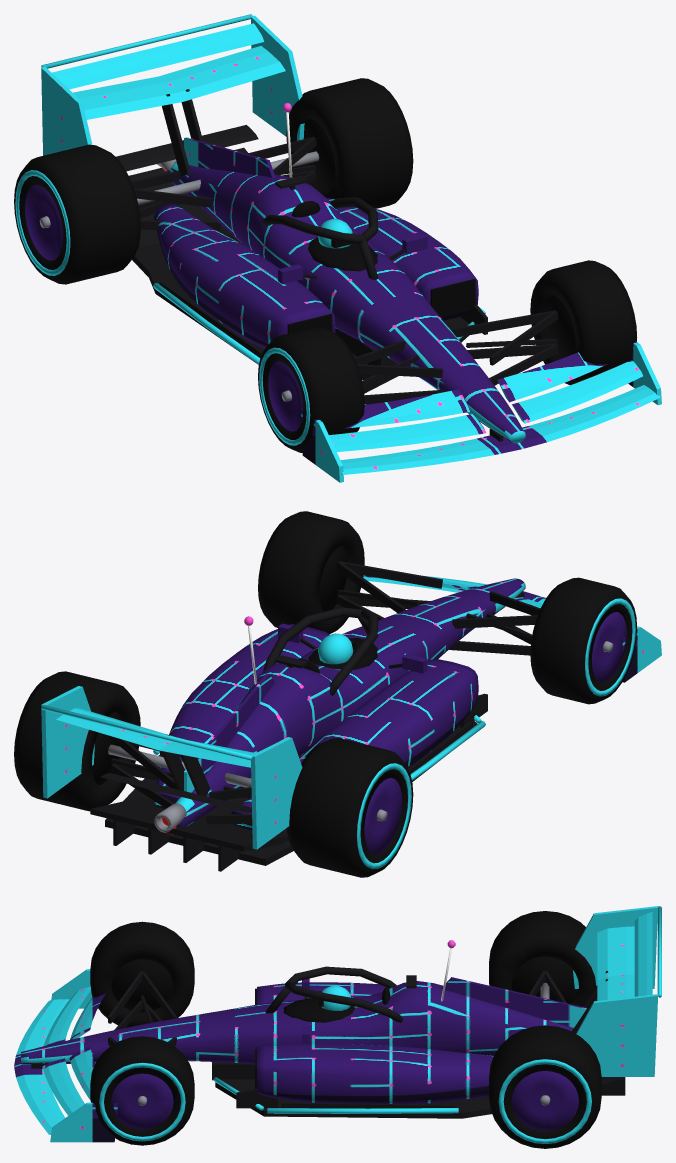
File: city_b.fbx
The picture shows the model from 3 angles, top to bottom: view 1: azimuth 30°, elevation 25°; view 2: azimuth 150°, elevation 25°; view 3: azimuth 270°, elevation 25°; orthographic projection. The views are drawn at different scales.
Visible parts, largest first — view 1: Body, Trim, Wheel_RL, Wheel_RR, Wheel_FL, Wheel_FR, Glow; view 2: Body, Trim, Wheel_RL, Wheel_FL, Wheel_FR, Wheel_RR, Glow; view 3: Body, Wheel_RR, Trim, Wheel_FR, Wheel_FL, Wheel_RL, Glow.
Part boxes in pixels (bbox=[...]): Body: bbox=[41, 15, 661, 482]; Trim: bbox=[116, 89, 558, 441]; Wheel_RL: bbox=[14, 144, 140, 284]; Wheel_RR: bbox=[286, 78, 413, 208]; Wheel_FL: bbox=[258, 327, 364, 452]; Wheel_FR: bbox=[530, 260, 637, 385]; Glow: bbox=[41, 14, 485, 364]; Body: bbox=[41, 575, 661, 849]; Trim: bbox=[90, 561, 540, 871]; Wheel_RL: bbox=[287, 738, 413, 877]; Wheel_FL: bbox=[530, 577, 636, 704]; Wheel_FR: bbox=[258, 511, 364, 633]; Wheel_RR: bbox=[14, 671, 140, 811]; Glow: bbox=[41, 616, 485, 834]; Body: bbox=[14, 906, 658, 1142]; Wheel_RR: bbox=[489, 1025, 601, 1148]; Trim: bbox=[31, 966, 625, 1118]; Wheel_FR: bbox=[90, 1036, 194, 1145]; Wheel_FL: bbox=[90, 921, 194, 1027]; Wheel_RL: bbox=[489, 911, 596, 1006]; Glow: bbox=[213, 906, 661, 1113].
Size of the model in its own units: 9.81 by 4.72 by 18.66.
Materials: 4 (1 with a texture image).
